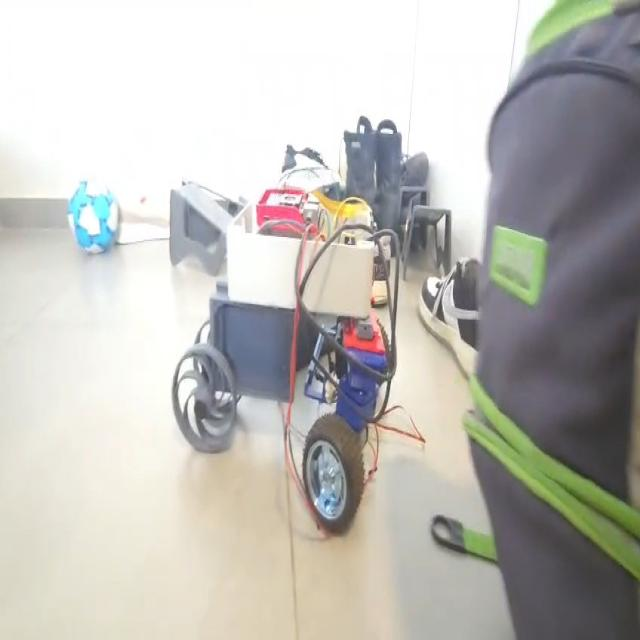Robot: (173, 160, 397, 544)
